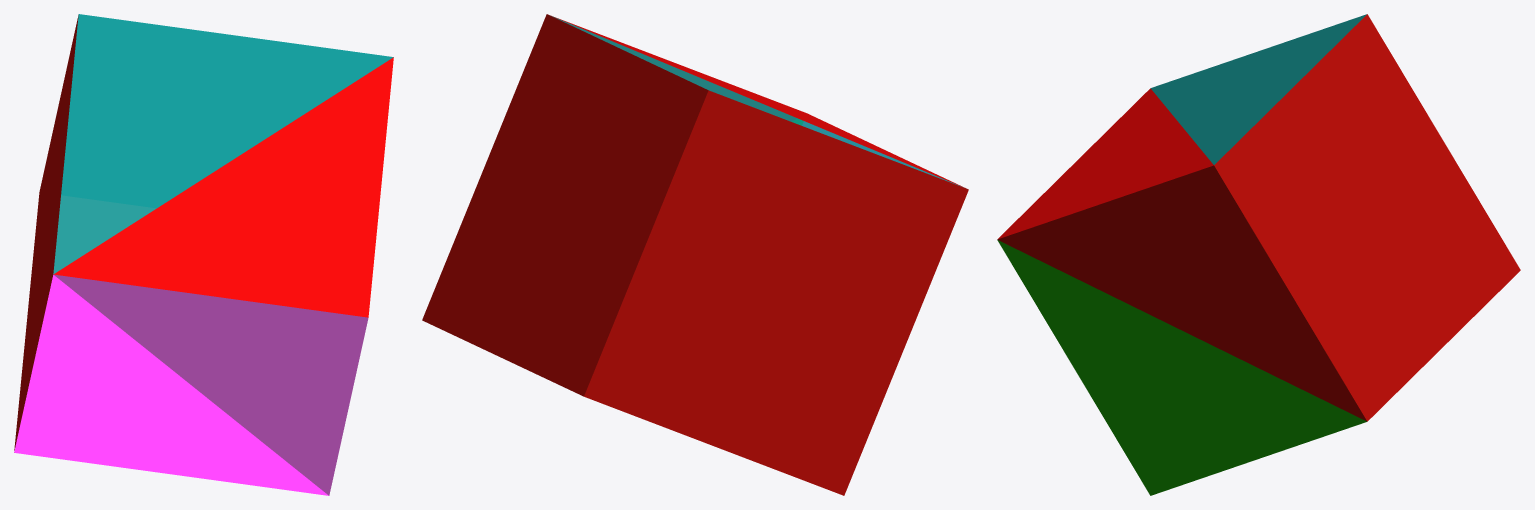
File: instance_material_cube_with_6_materials.dae
3 views of the same model, side by side, from view 1: azimuth 30°, elevation 25°; view 2: azimuth 150°, elevation 25°; view 3: azimuth 270°, elevation 25° (orthographic). The views are drawn at different scales.
Parts seen in each view (by area): view 1: cube_node; view 2: cube_node; view 3: cube_node.
Boxes of the visible parts, box(x1,y1,x2,y2) form: cube_node: box(14, 14, 393, 495); cube_node: box(422, 14, 968, 495); cube_node: box(997, 14, 1520, 495).
Bounding box in the file's own units: 150 × 150 × 171.
